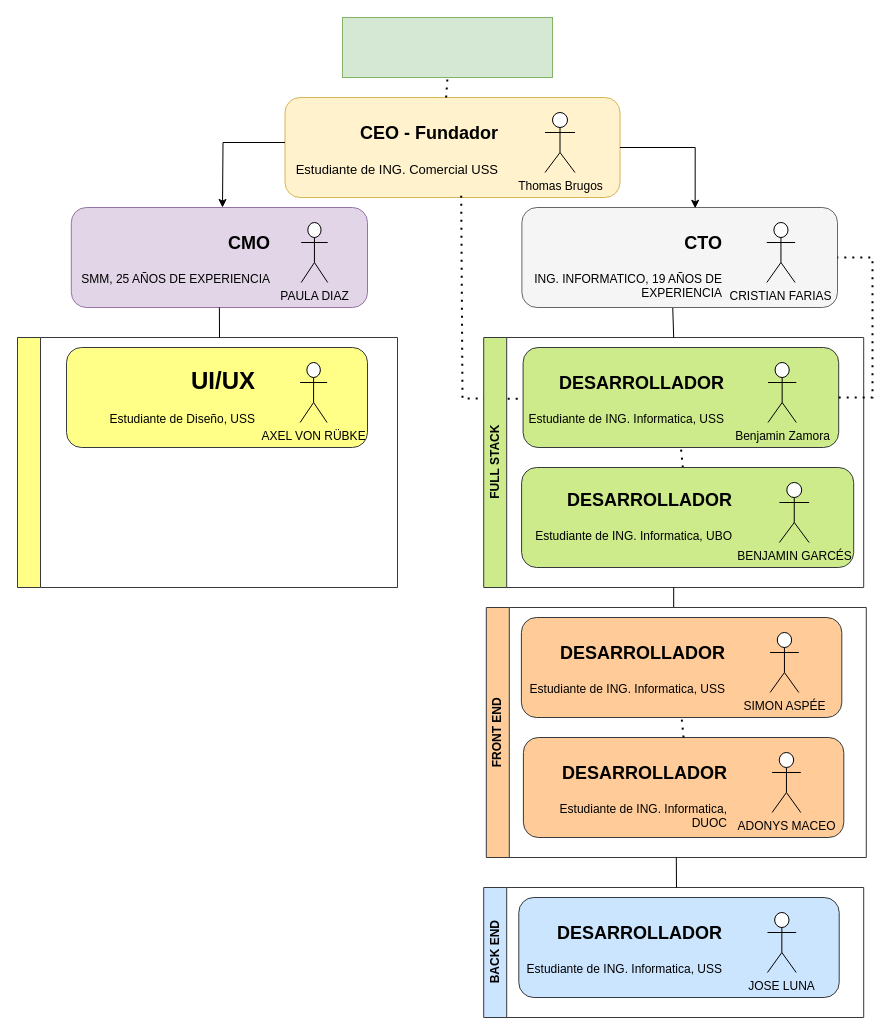
This 892x1035 diagram has some shape labels left out. Each missing label, with the centre of its shape:
SafeBites Team: the point at 447,47
UI/UX - Diseño Interfaz: the point at 207,462
